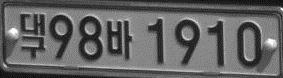0: (237, 20, 261, 66)
1: (145, 17, 170, 62), (206, 19, 230, 65)
8: (78, 15, 103, 60)
9: (175, 18, 201, 64), (48, 13, 73, 58)
대구_V: (19, 13, 46, 59)
바: (105, 20, 132, 60)
